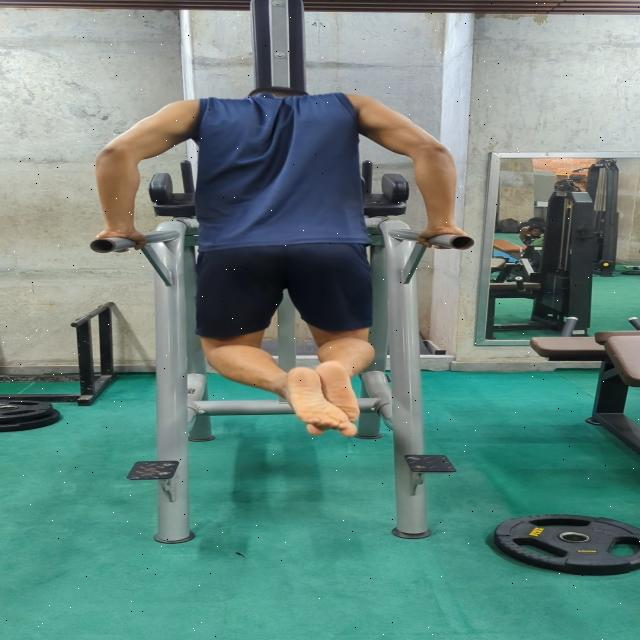Normal_Dips: (89, 77, 465, 438)
